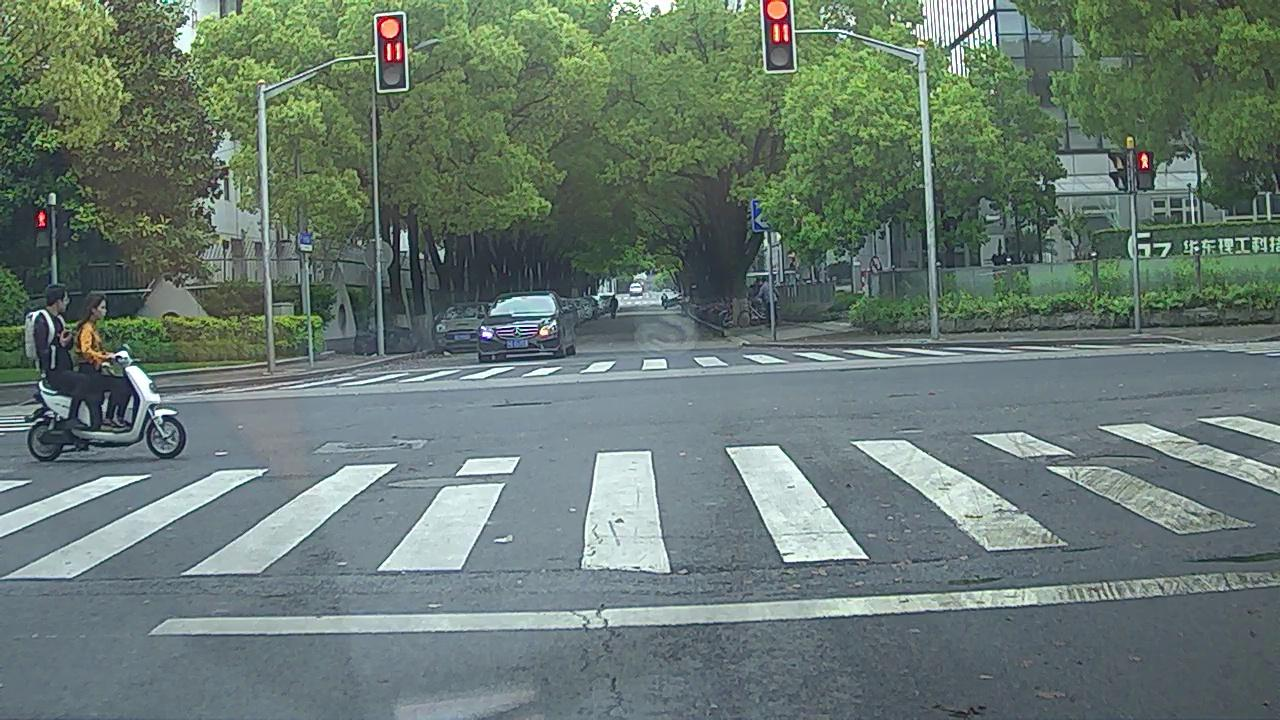traffic_light: (762, 1, 796, 72), (374, 17, 407, 89)
